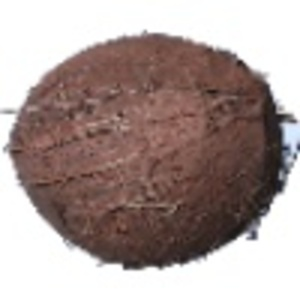coco: (8, 33, 300, 270)
